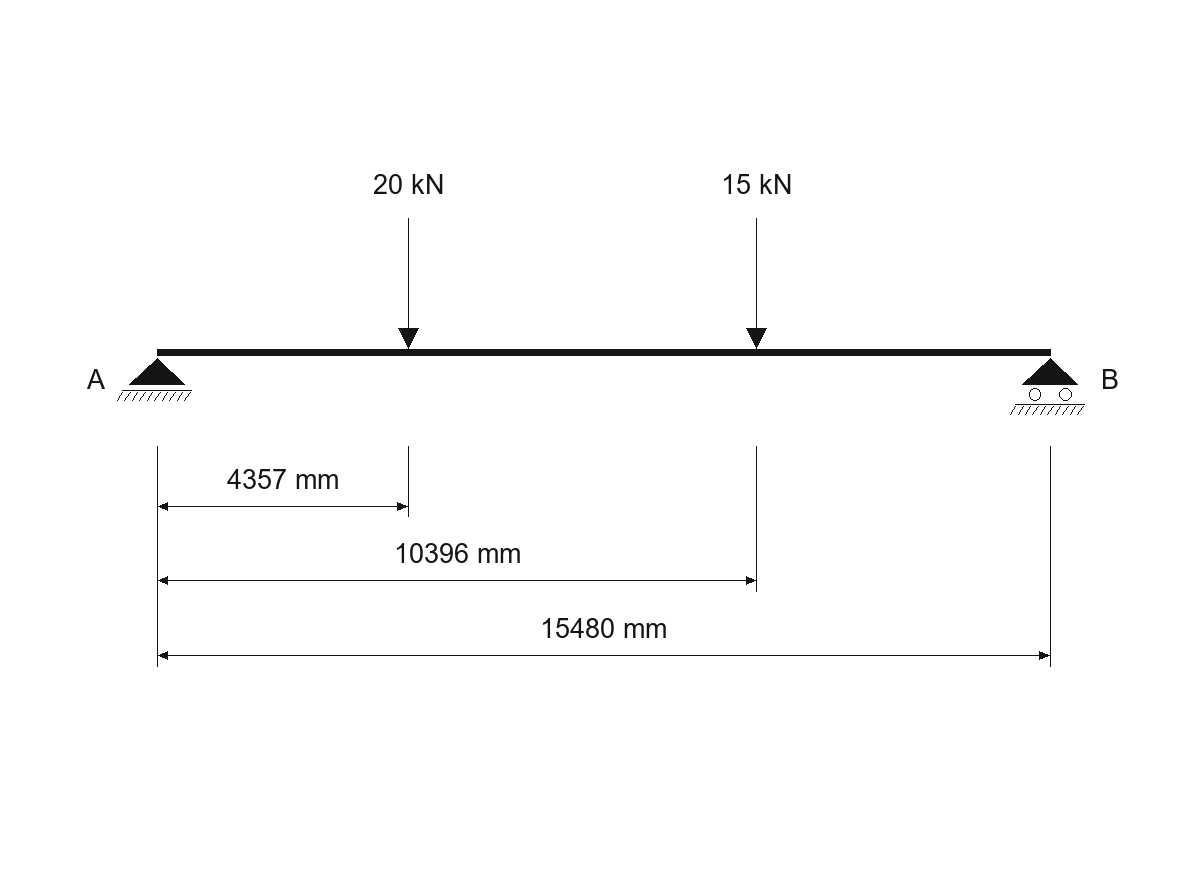pin_support: (117, 358, 192, 401)
point_load: (398, 218, 419, 349), (746, 218, 767, 349)
roller_support: (1010, 358, 1085, 415)
